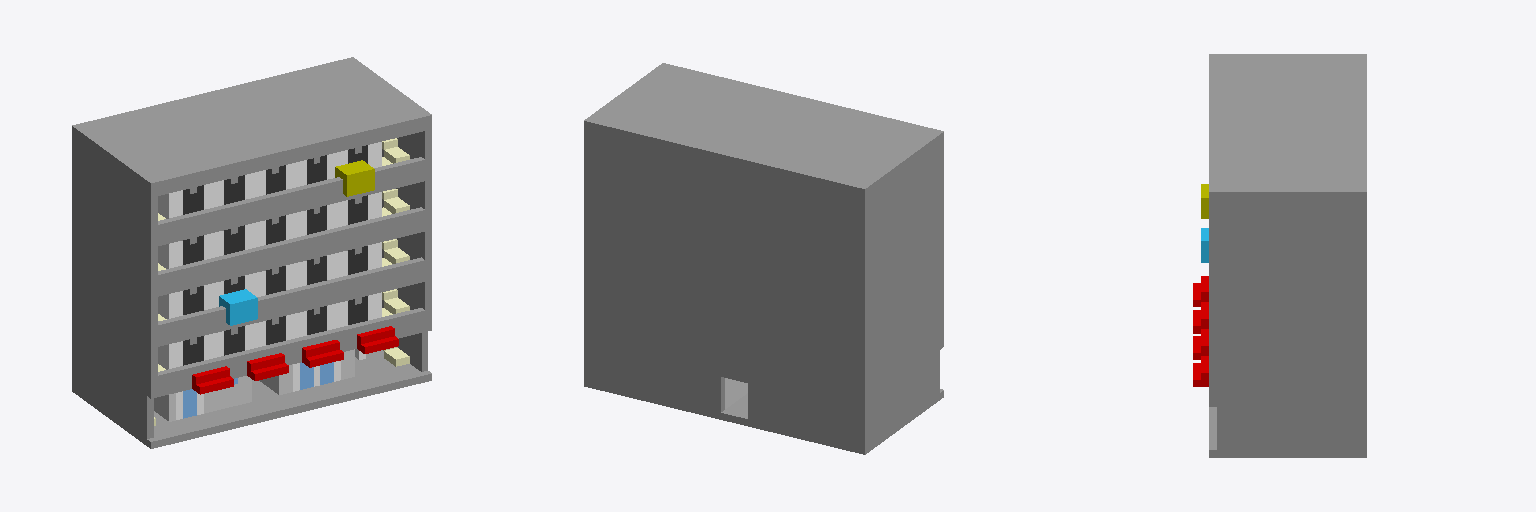
The picture shows the model from 3 angles: view 1: azimuth 30°, elevation 25°; view 2: azimuth 150°, elevation 25°; view 3: azimuth 270°, elevation 25°; orthographic projection.
Visible parts, largest first — view 1: L_b07; view 2: L_b07; view 3: L_b07.
Boxes of the visible parts, x1,y1,x2,y2 form: L_b07: [72, 57, 431, 448]; L_b07: [584, 63, 943, 454]; L_b07: [1193, 54, 1366, 457].
Size of the model in its own units: 41 by 37 by 22.
Materials: 1 (1 with a texture image).